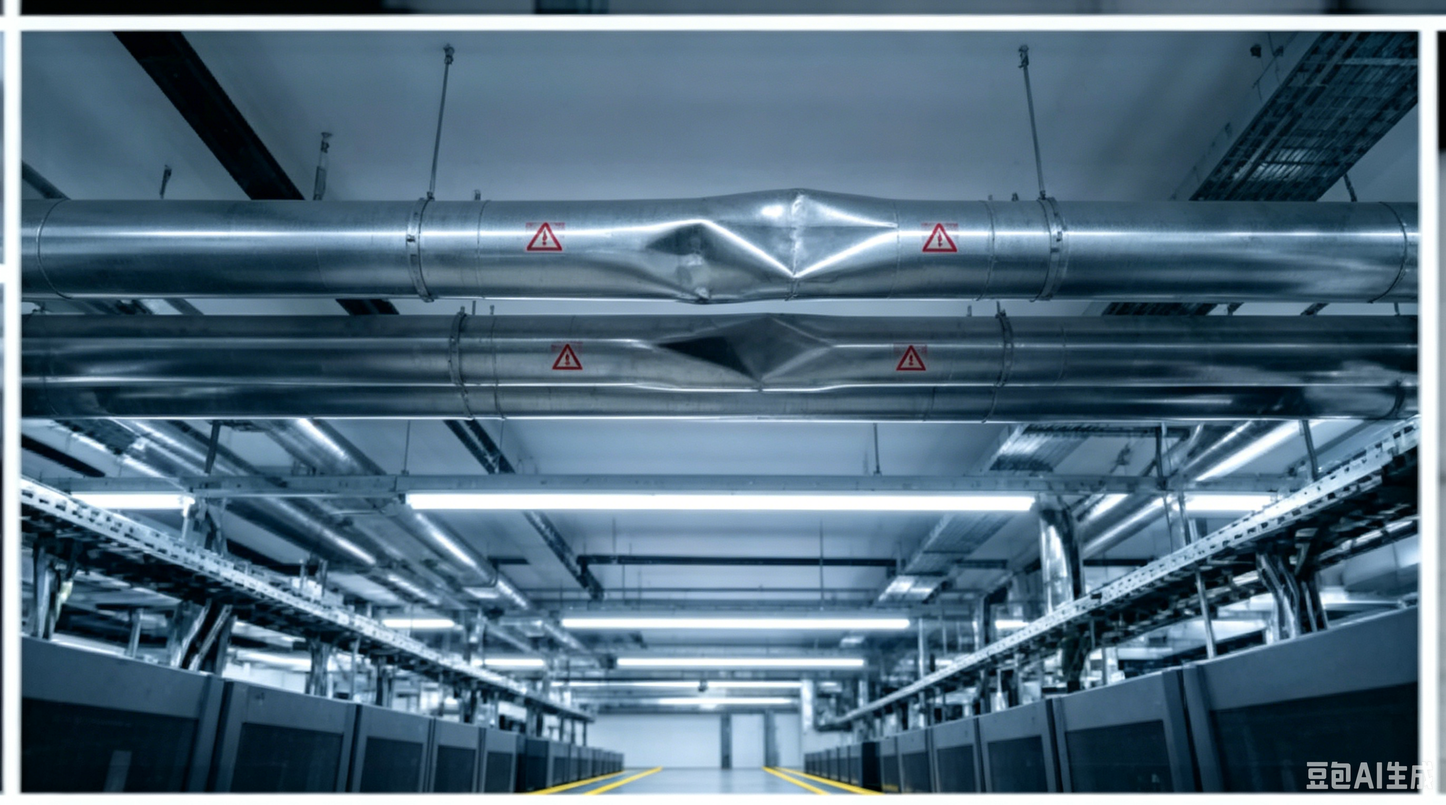Leakage: (619, 315, 856, 397), (730, 197, 903, 278), (616, 224, 737, 293)
